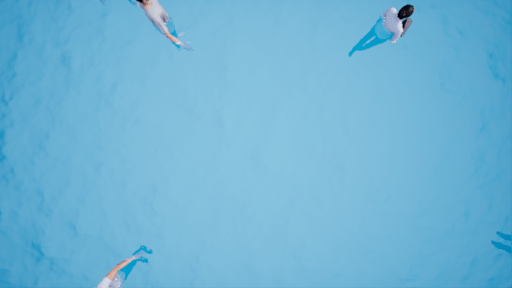person: (346, 1, 420, 58), (126, 2, 200, 54), (94, 236, 156, 288)
